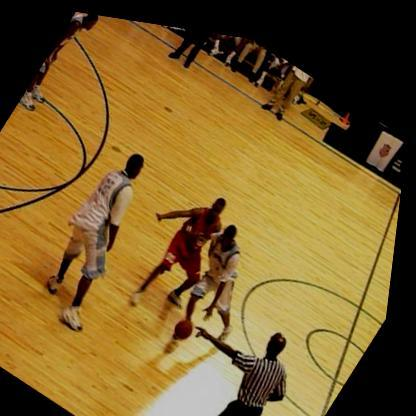basketball: (173, 306, 206, 342)
